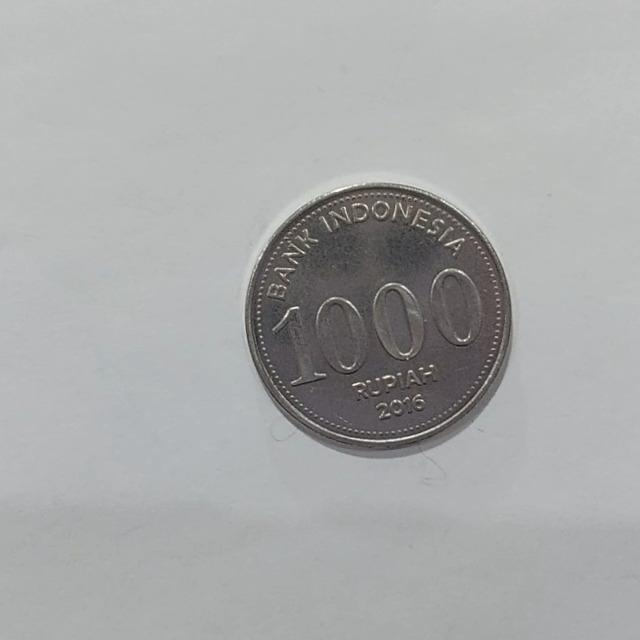Rp100: (242, 177, 513, 457)
